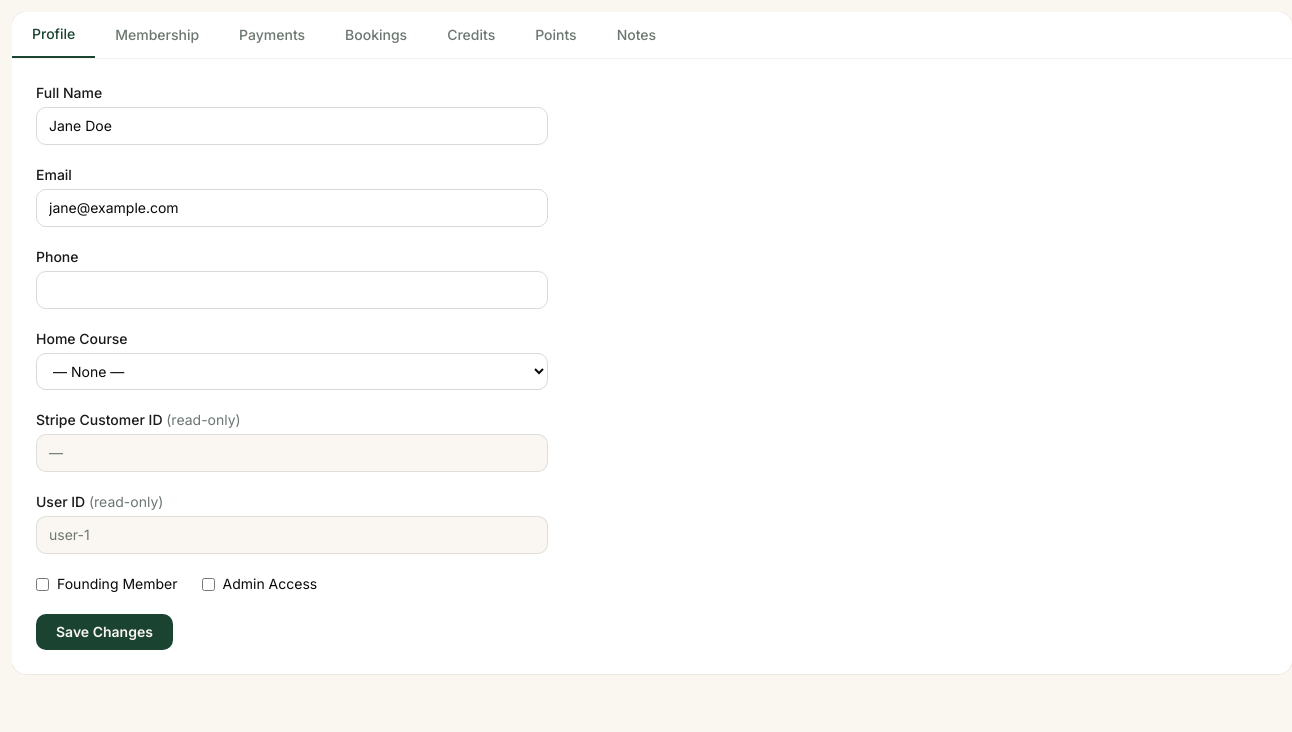
Test case: MemberDetailTabs › switches to Membership tab on click
The width and height of the screenshot is (1292, 732).
Step 1. Click the button "Membership" → [157, 35], box [95,12,219,58]
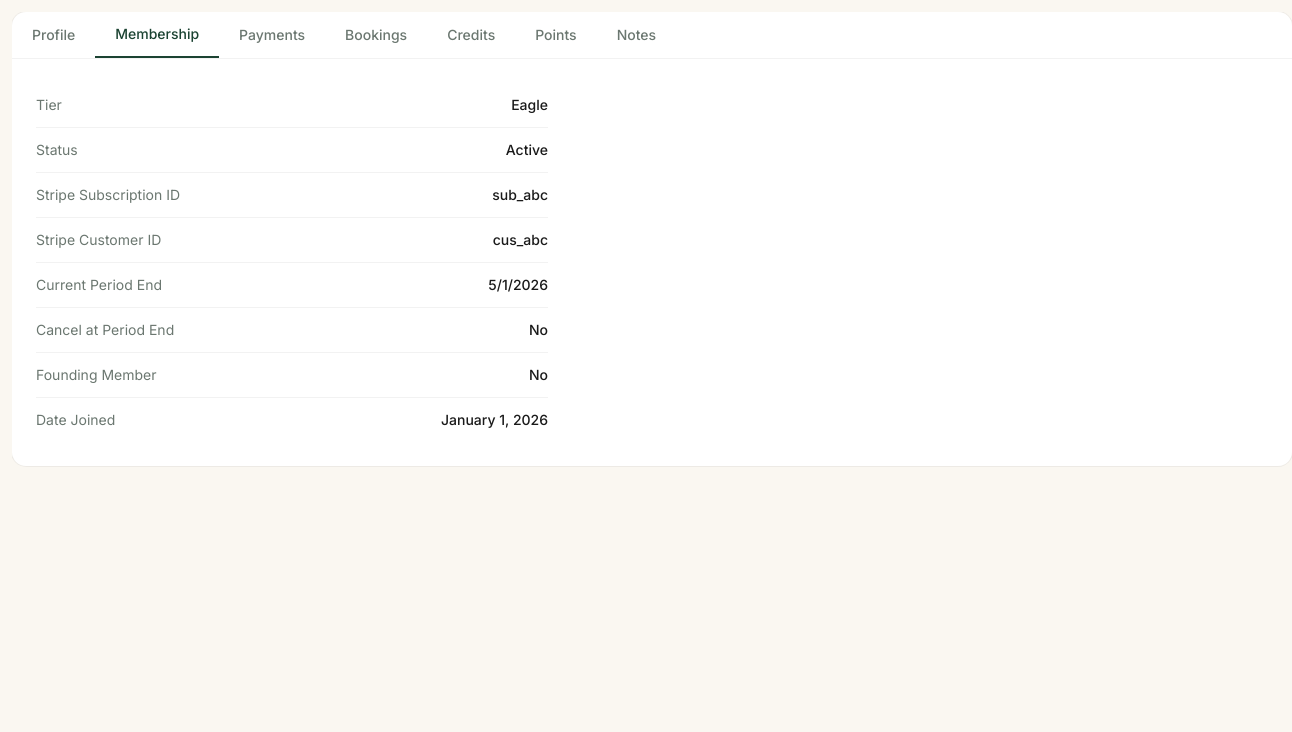
Expected: the text "Stripe Subscription ID" is shown, [36,185,180,205]
